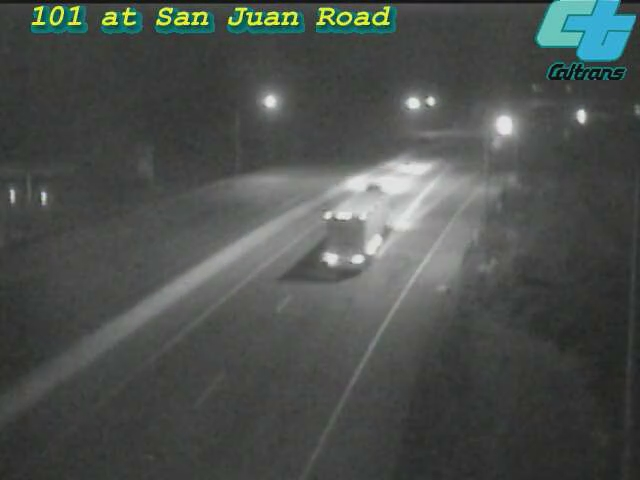vehicle: (366, 130, 446, 210), (339, 148, 419, 228), (313, 195, 393, 275), (481, 100, 531, 150), (553, 92, 603, 142)
